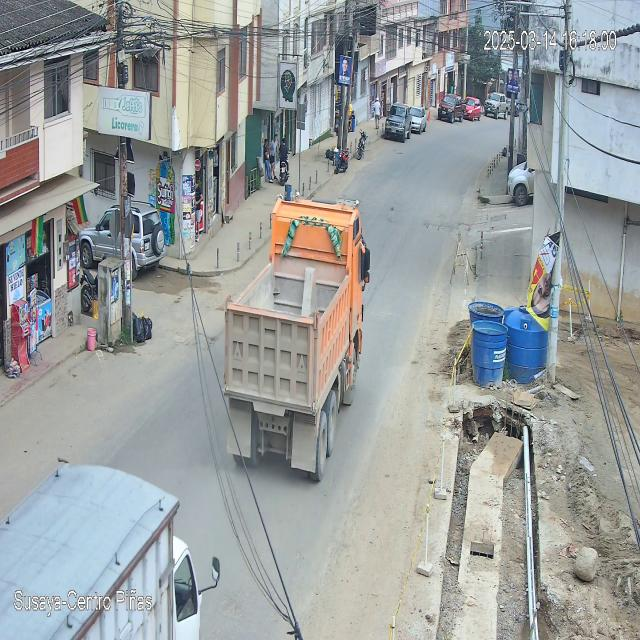TRUCK: (220, 202, 370, 484), (0, 463, 200, 640)
